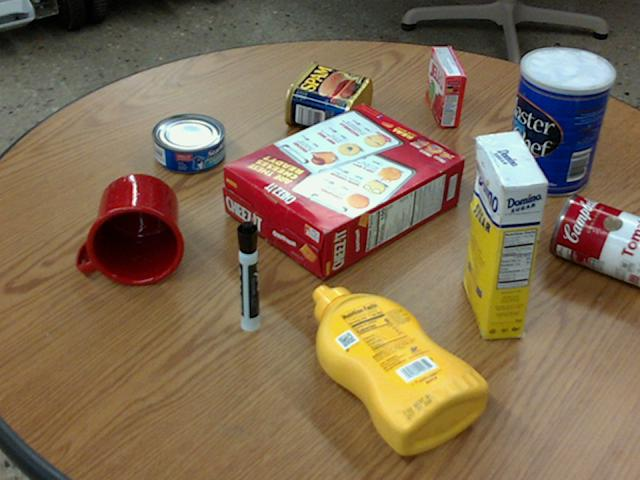cracker_box: (222, 105, 462, 279)
gelatin_box: (426, 46, 465, 126)
large_marker: (236, 220, 258, 331)
master_chef_can: (504, 48, 613, 196)
mug: (76, 174, 183, 285)
mustard_bottle: (312, 285, 487, 453)
potted_meat_can: (284, 61, 372, 134)
sugar_box: (464, 131, 546, 339)
tomato_soup_can: (549, 192, 639, 285)
tuna_fish_can: (152, 113, 224, 171)
